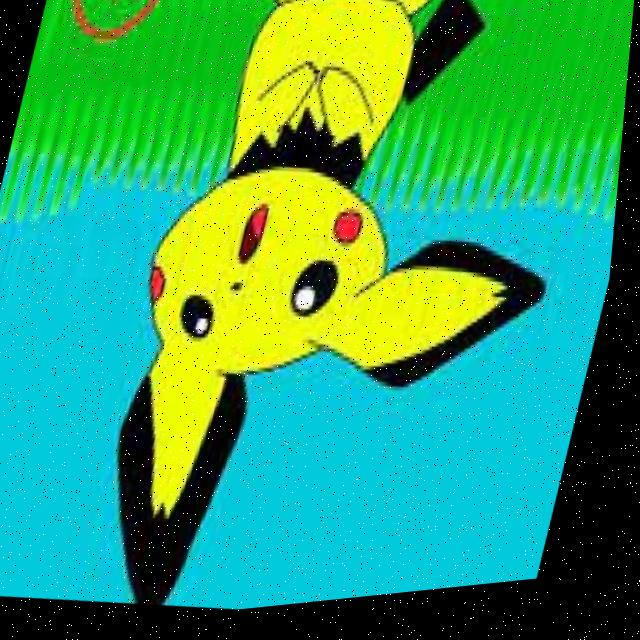pichu: (67, 0, 591, 631)
